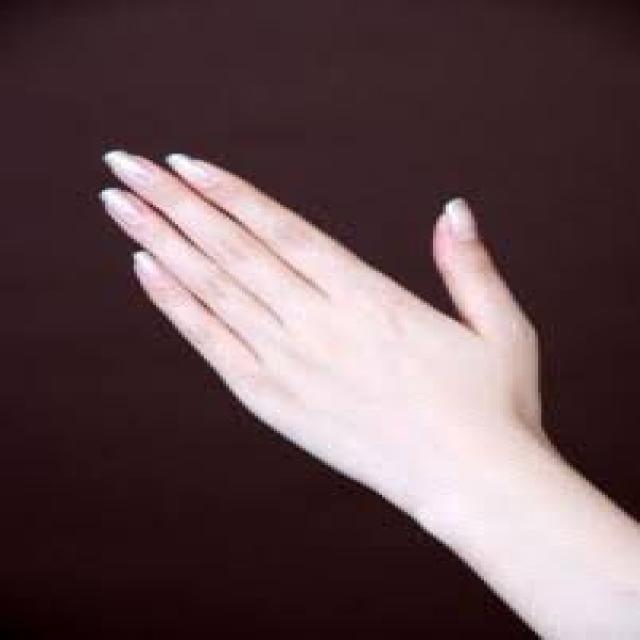hand: (94, 146, 546, 479)
